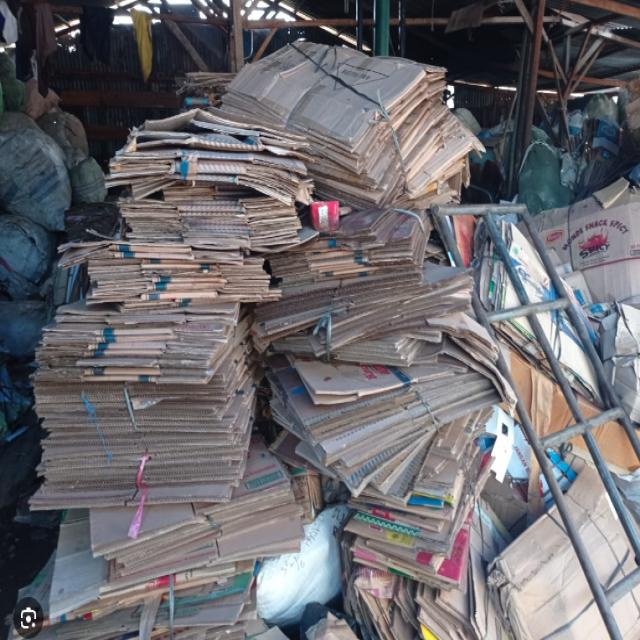Kardus: (25, 37, 519, 637)
